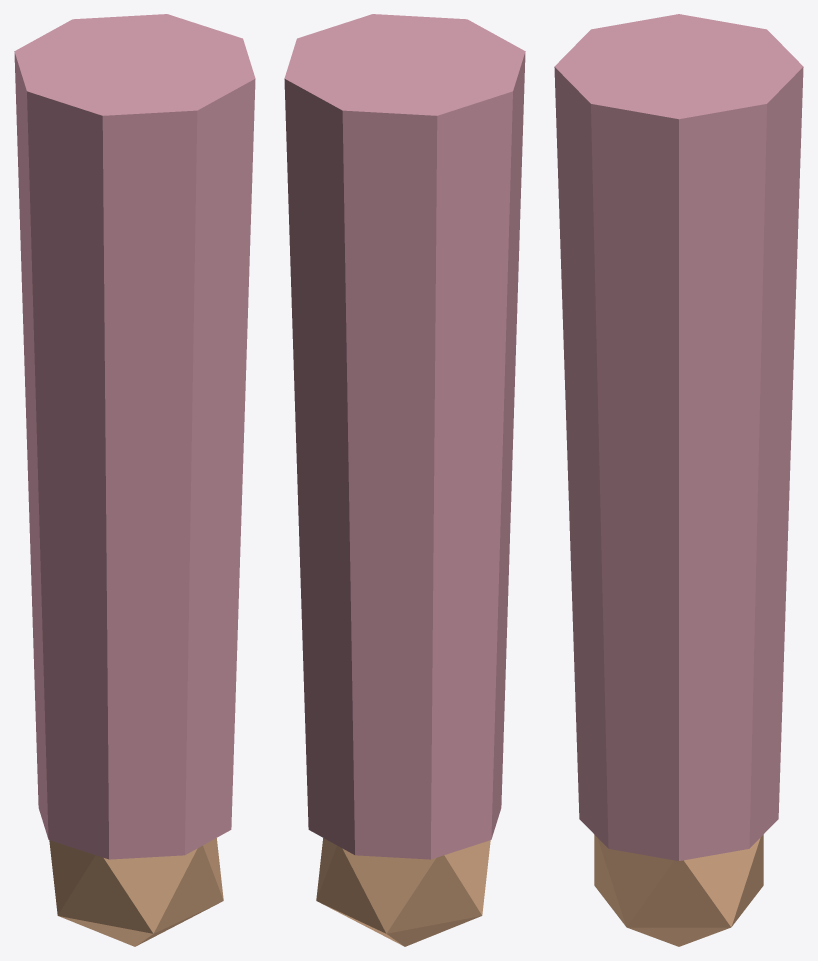
Rendered from insan_k0s_kol.glb.
The picture shows the model from 3 angles, left to right: view 1: azimuth 30°, elevation 25°; view 2: azimuth 150°, elevation 25°; view 3: azimuth 270°, elevation 25°; orthographic projection.
Visible parts, largest first — view 1: Cone; view 2: Cone; view 3: Cone.
Part boxes in pixels (x1=…): Cone: x1=14, y1=14, x2=255, y2=946; Cone: x1=284, y1=14, x2=525, y2=946; Cone: x1=554, y1=14, x2=803, y2=946.
Bounding box in the file's own units: 0.03 × 0.117 × 0.03.
